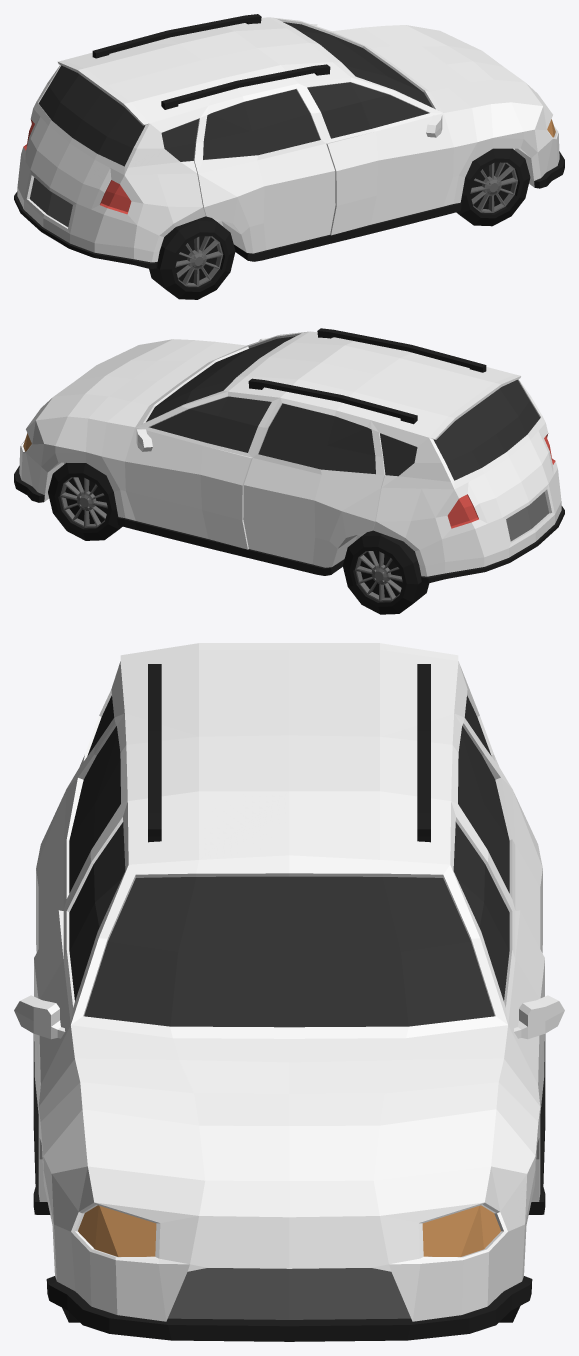
The model's file is suv_generic_a.glb.
3 renders of one model, top to bottom at view 1: azimuth 30°, elevation 25°; view 2: azimuth 150°, elevation 25°; view 3: azimuth 270°, elevation 25°, orthographic. The views are drawn at different scales.
Visible parts, largest first — view 1: SUV_Cube, SUV_BackWheels_Cylinder.009, SUV_FrontRightWheel_Cylinder.005; view 2: SUV_Cube, SUV_BackWheels_Cylinder.009, SUV_FrontLeftWheel_Cylinder.010; view 3: SUV_Cube.
Boxes of the visible parts, x1,y1,x2,y2 form: SUV_Cube: [14, 14, 564, 268]; SUV_BackWheels_Cylinder.009: [149, 216, 235, 299]; SUV_FrontRightWheel_Cylinder.005: [456, 148, 530, 226]; SUV_Cube: [14, 328, 564, 583]; SUV_BackWheels_Cylinder.009: [342, 530, 429, 614]; SUV_FrontLeftWheel_Cylinder.010: [48, 463, 122, 540]; SUV_Cube: [14, 643, 564, 1341].
Bounding box in the file's own units: 4.7 × 1.71 × 2.36.
